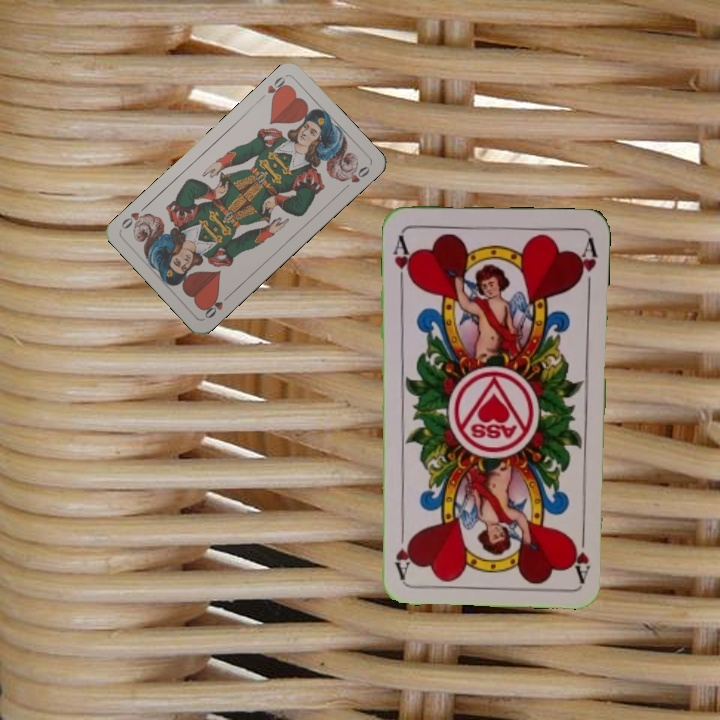HA: (388, 231, 415, 288), (567, 524, 593, 583)
HO: (199, 290, 234, 321), (263, 73, 291, 103)
